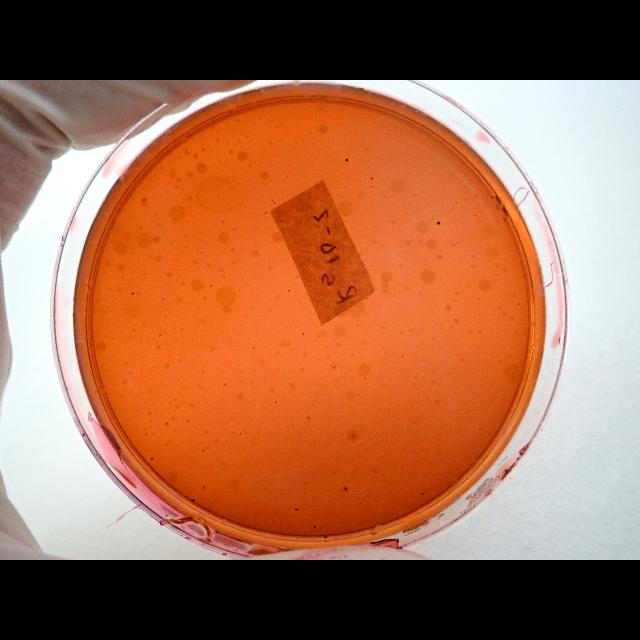colony: (370, 530, 378, 536), (150, 456, 154, 462), (344, 486, 348, 492), (437, 220, 441, 226), (132, 328, 136, 332), (131, 292, 135, 296), (201, 147, 205, 151), (490, 195, 494, 199), (517, 302, 521, 306), (478, 428, 482, 432), (421, 492, 425, 496), (312, 524, 316, 528), (324, 535, 328, 539), (345, 158, 349, 162), (202, 109, 206, 113), (201, 449, 205, 453), (212, 126, 215, 130), (287, 290, 291, 292), (302, 332, 304, 336), (224, 383, 226, 387), (186, 420, 190, 422), (145, 432, 147, 436), (166, 421, 168, 425), (202, 164, 204, 168), (246, 136, 250, 138), (272, 202, 276, 204), (264, 212, 268, 214), (360, 501, 362, 505), (295, 508, 299, 510), (239, 432, 241, 436), (210, 283, 212, 287), (334, 222, 336, 226), (276, 125, 278, 129), (202, 486, 204, 490), (192, 498, 194, 502), (252, 348, 255, 350), (185, 150, 188, 152), (286, 175, 288, 178), (307, 416, 309, 419), (274, 401, 276, 404), (220, 220, 223, 222), (371, 178, 374, 180), (272, 199, 274, 201), (474, 214, 476, 216), (243, 430, 245, 432), (232, 432, 234, 434)
